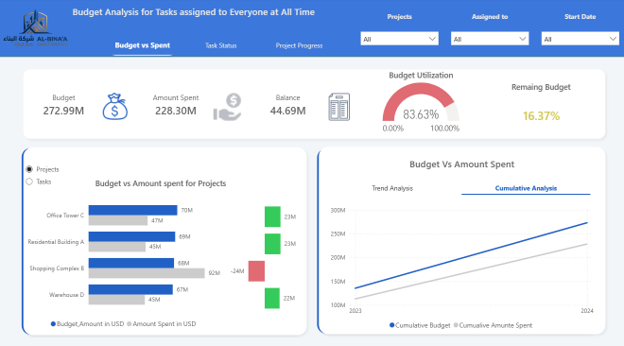

What the dashboard file says about the page in this screenshot:
{"tool":"powerbi","page":{"name":"Budget vs Spent","canvas":[1280,720],"ordinal":0},"visuals":[{"type":"shape","box":[0,0,1280,120],"z":0},{"type":"shape","box":[40.2,296.6,589.1,399.6],"z":0,"group":"g4"},{"type":"clusteredBarChart","fields":{"Category":["large_construction_project_mana.Project Name"],"Y":["Measures (2).Total Budget","Measures (2).Total Spent"]},"box":[45.7,366.2,425.6,317.2],"z":0,"group":"g6"},{"type":"pageNavigator","box":[221,74.1,470.5,44.2],"z":1000},{"type":"shape","box":[43.4,295,596.7,401.7],"z":1000,"group":"g7"},{"type":"shape","box":[643.2,297.6,589.1,396.2],"z":1000,"group":"g5"},{"type":"clusteredBarChart","fields":{"Category":["large_construction_project_mana.Project Name"],"Y":["Measures (2).Balance"]},"box":[467,412,152.3,228.8],"z":1000,"group":"g6"},{"type":"lineChart","title":"Amount Spent ($) and Budget Amount ($) by Year, Quarter and Month","fields":{"Category":["Calendar.Date.Variation.Date Hierarchy.Year","Calendar.Date.Variation.Date Hierarchy.Quarter","Calendar.Date.Variation.Date Hierarchy.Month"],"Y":["Measures (2).Budget ِAmount in USD","Measures (2).Amount Spent in USD"]},"box":[674.5,426.6,557.8,269.1],"z":1000,"group":"g2"},{"type":"shape","box":[43.7,136.7,1206.3,160],"z":2000,"group":"g3"},{"type":"shape","box":[646.4,294.5,603.4,400.8],"z":2000,"group":"g5"},{"type":"textbox","box":[667.2,321.6,561.8,61.9],"z":2000,"group":"g2"},{"type":"cardVisual","fields":{"Data":["Measures (2).Selected Value"]},"box":[88.1,0,624.9,53.1],"z":3000},{"type":"bookmarkNavigator","box":[673.9,372,536.7,30.9],"z":3000,"group":"g2"},{"type":"group","id":"g1","title":"Group 2","box":[731.7,28.3,548.3,91.7],"z":4000},{"type":"cardVisual","fields":{"Data":["Measures (2).Total Budget","Measures (2).Total Spent","Measures (2).Balance"]},"box":[43.3,159.3,713.2,126.8],"z":4000,"group":"g3"},{"type":"group","id":"g2","title":"Group 2","box":[667.2,321.6,565.1,374.1],"z":4500,"group":"g5"},{"type":"group","id":"g3","title":"Group 4","box":[43.3,136.7,1206.7,160],"z":5000},{"type":"gauge","fields":{"Y":["Measures (2).Budget Utilization"]},"box":[736.7,146.8,254.8,141.5],"z":5000,"group":"g3"},{"type":"image","box":[0,0,154.7,120.9],"z":6000},{"type":"cardVisual","fields":{"Data":["Measures (2).% Remaining"]},"box":[998,204.1,226.1,68.5],"z":6000,"group":"g3"},{"type":"slicer","title":"Start Date","fields":{"Values":["Calendar.Date.Variation.Date Hierarchy.Year","Calendar.Date.Variation.Date Hierarchy.Quarter","Calendar.Date.Variation.Date Hierarchy.Month"]},"box":[1101.3,28.3,178.7,91.7],"z":7000,"group":"g1"},{"type":"cardVisual","fields":{"Data":["Measures (2).Title"]},"box":[996,147.4,226.1,65.7],"z":7000,"group":"g3"},{"type":"group","id":"g4","title":"Group 5","box":[40.2,295,599.8,401.7],"z":7000},{"type":"slicer","title":"Assigned to","fields":{"Values":["large_construction_project_mana.Assigned To"]},"box":[916.5,28.3,178.7,91.7],"z":8000,"group":"g1"},{"type":"group","id":"g5","title":"Group 6","box":[643.2,294.5,606.6,401.2],"z":8000},{"type":"group","id":"g6","title":"Group 3","box":[45.7,366.2,573.6,317.2],"z":8002,"group":"g7"},{"type":"slicer","fields":{"Values":["Parameter.Parameter"]},"box":[44.1,330.7,159.8,82.6],"z":8502,"group":"g7"},{"type":"slicer","title":"Projects","fields":{"Values":["large_construction_project_mana.Project Name"]},"box":[731.7,28.3,178.7,91.7],"z":9001,"group":"g1"},{"type":"group","id":"g7","title":"Group 1","box":[43.4,295,596.7,401.7],"z":10000,"group":"g4"}]}

Visuals, with their boxes in screenshot pixels (x1, y1, x2, y2), scaled from the page's 1280x720 canvas onto the 624x346 screenshot:
shape: (0,0,623,58)
shape: (20,143,307,335)
clusteredBarChart - large_construction_project_mana.Project Name x Measures (2).Total Budget: (22,176,230,328)
pageNavigator: (108,36,337,57)
shape: (21,142,312,335)
shape: (314,143,601,333)
clusteredBarChart - large_construction_project_mana.Project Name x Measures (2).Balance: (228,198,302,308)
"Amount Spent ($) and Budget Amount ($) by Year, Quarter and Month" lineChart: (329,205,601,334)
shape: (21,66,609,143)
shape: (315,142,609,334)
textbox: (325,155,599,184)
cardVisual - Measures (2).Selected Value: (43,0,348,26)
bookmarkNavigator: (329,179,590,194)
"Group 2" group: (357,14,623,58)
cardVisual - Measures (2).Total Budget x Measures (2).Total Spent: (21,77,369,137)
"Group 2" group: (325,155,601,334)
"Group 4" group: (21,66,609,143)
gauge - Measures (2).Budget Utilization: (359,71,483,139)
image: (0,0,75,58)
cardVisual - Measures (2).% Remaining: (487,98,597,131)
"Start Date" slicer: (537,14,623,58)
cardVisual - Measures (2).Title: (486,71,596,102)
"Group 5" group: (20,142,312,335)
"Assigned to" slicer: (447,14,534,58)
"Group 6" group: (314,142,609,334)
"Group 3" group: (22,176,302,328)
slicer - Parameter.Parameter: (21,159,99,199)
"Projects" slicer: (357,14,444,58)
"Group 1" group: (21,142,312,335)
